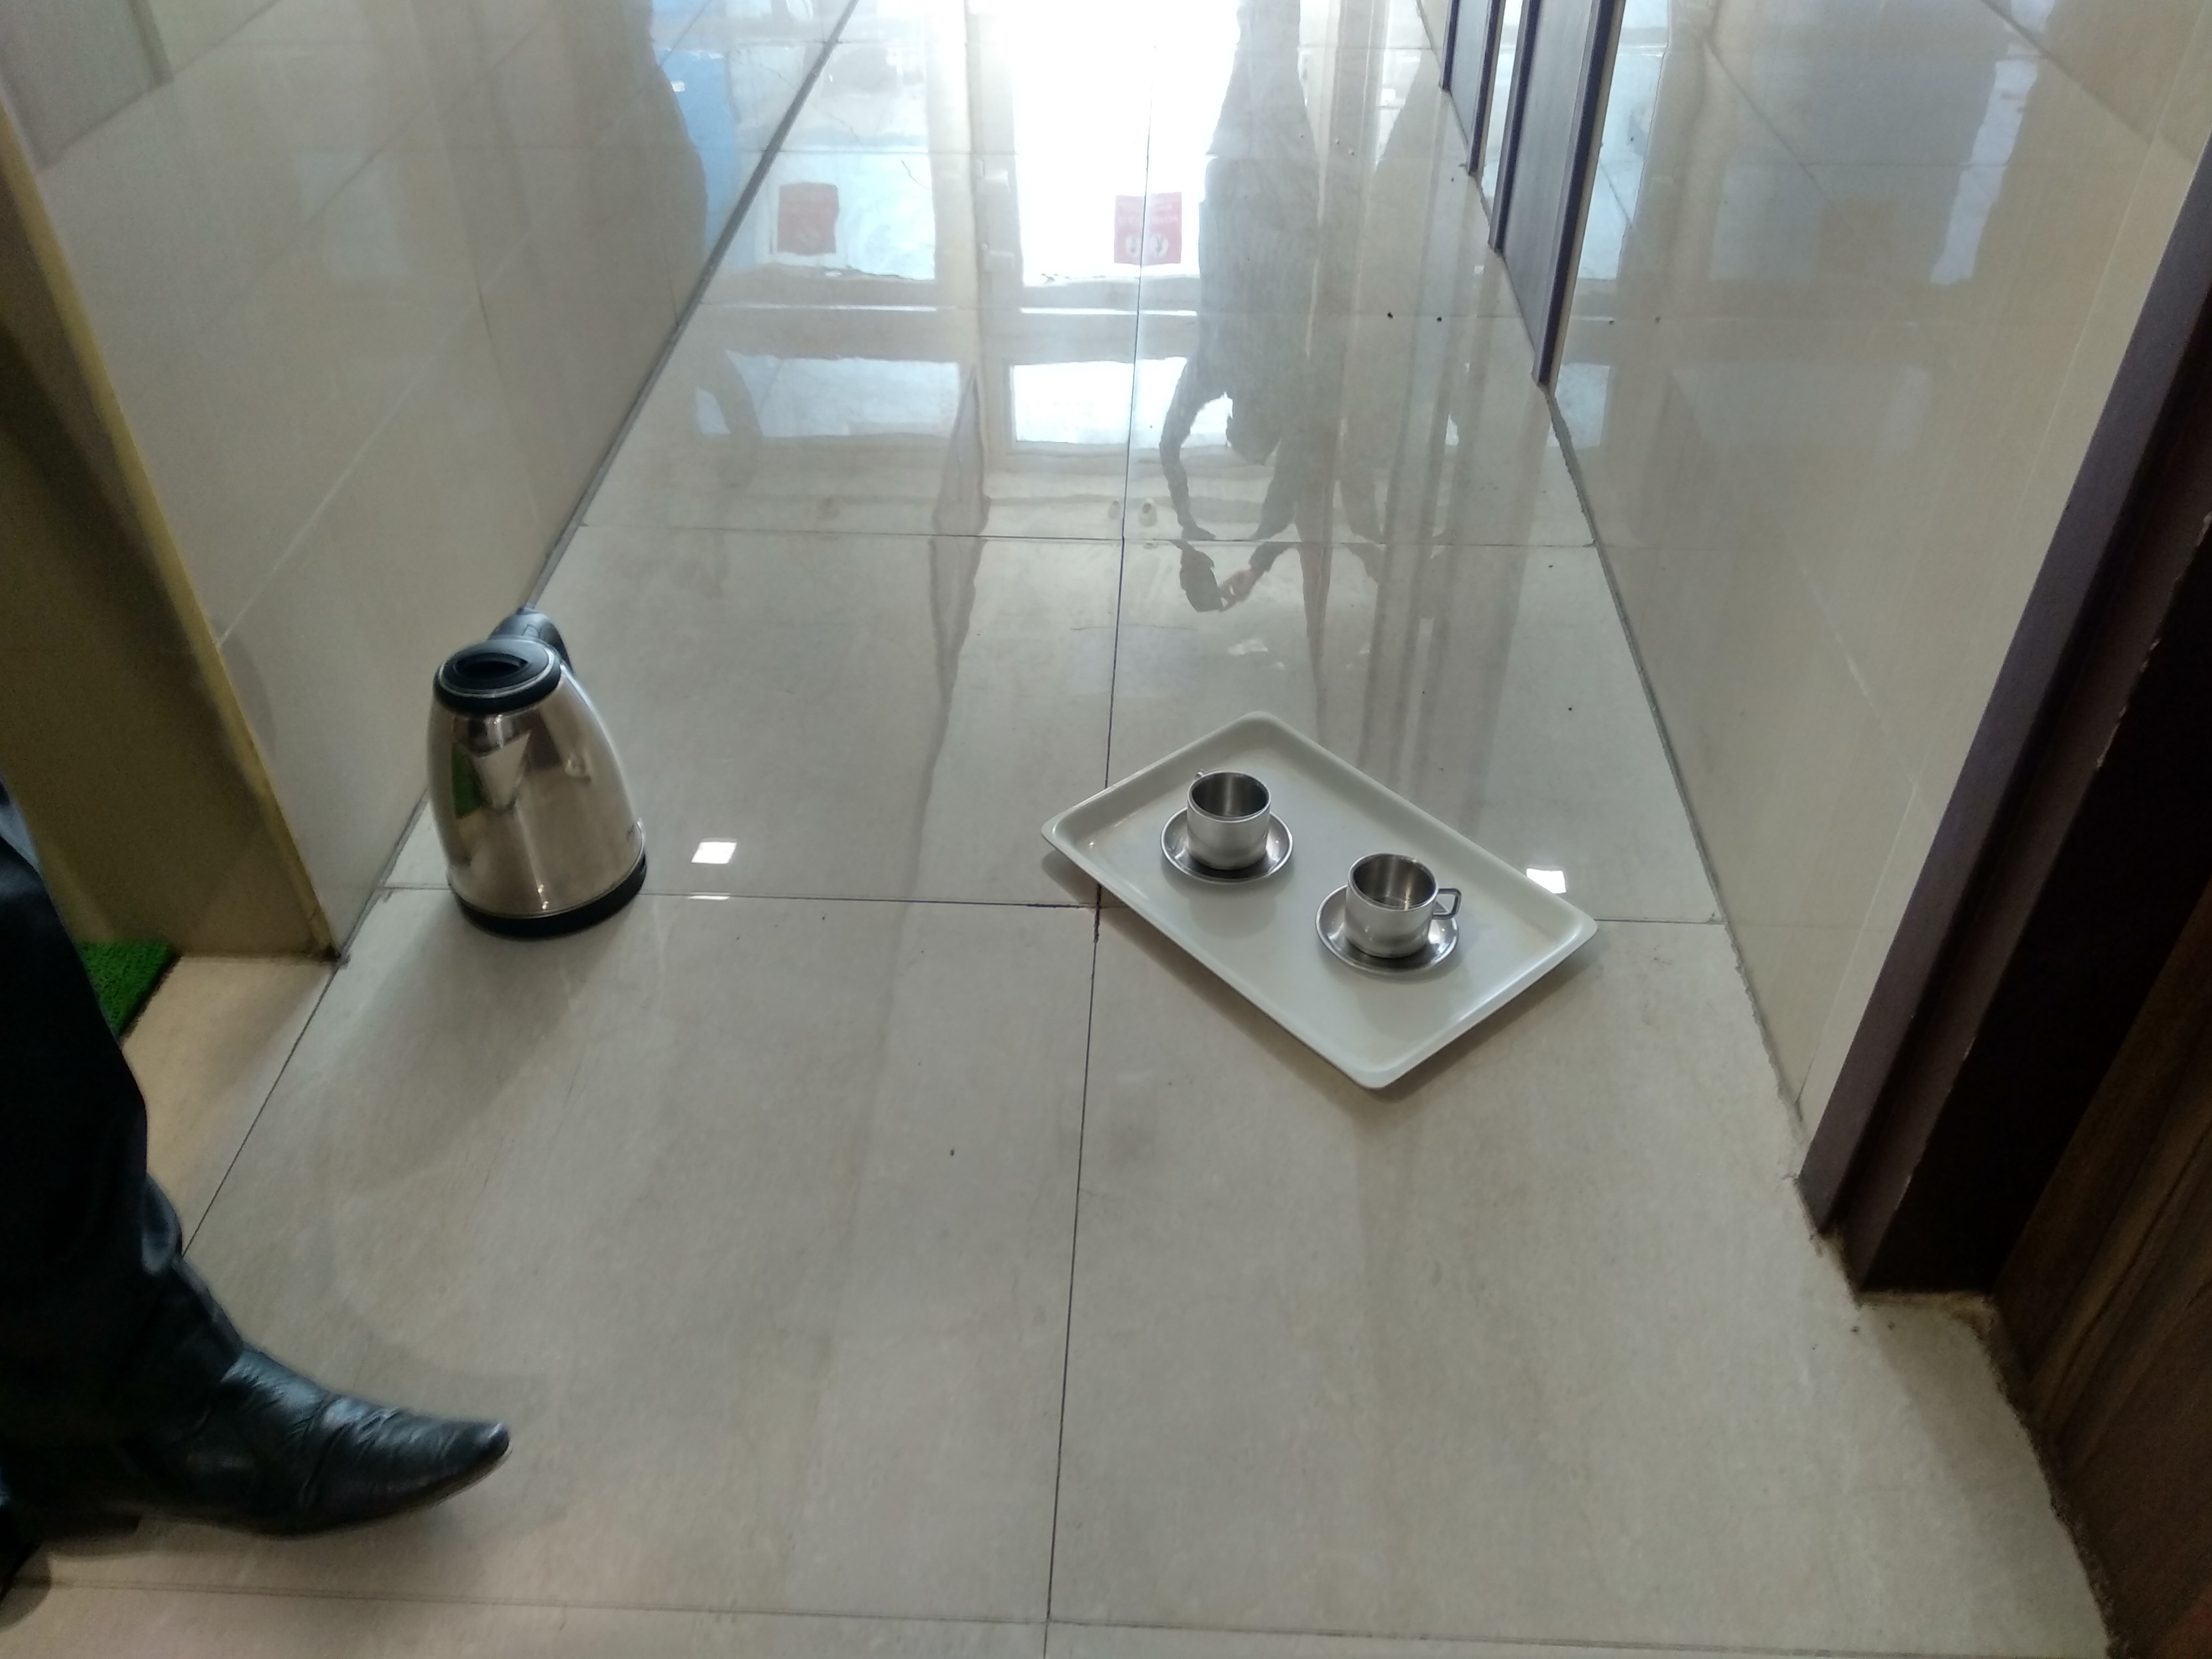CUP: (1315, 843, 1470, 990), (1160, 769, 1298, 894)
JUG: (421, 608, 657, 943)
